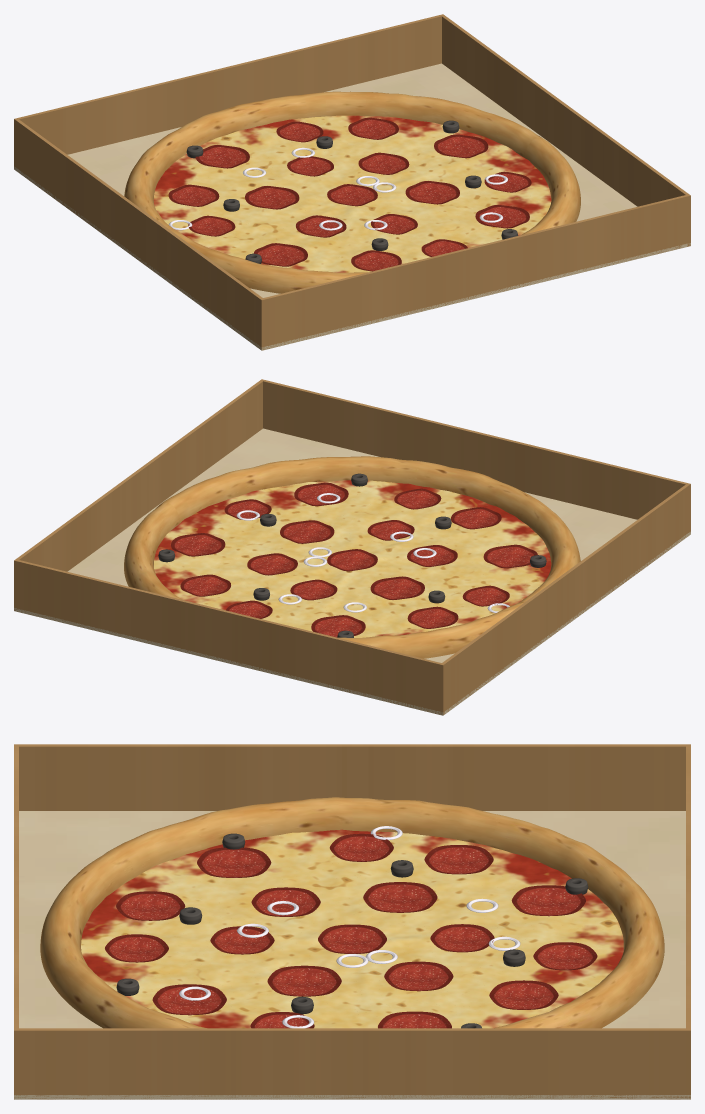
Rendered from pizza-caixa.glb.
3 renders of one model, top to bottom at view 1: azimuth 30°, elevation 25°; view 2: azimuth 150°, elevation 25°; view 3: azimuth 270°, elevation 25°, orthographic. The views are drawn at different scales.
Parts seen in each view (by area): view 1: pizza-caixa; view 2: pizza-caixa; view 3: pizza-caixa.
Part boxes in pixels (<box>): pizza-caixa: <box>14,14,690,350</box>; pizza-caixa: <box>14,379,690,715</box>; pizza-caixa: <box>14,744,690,1099</box>.
Bounding box in the file's own units: 0.4 × 0.045 × 0.4.
Materials: 7 (5 with a texture image).
